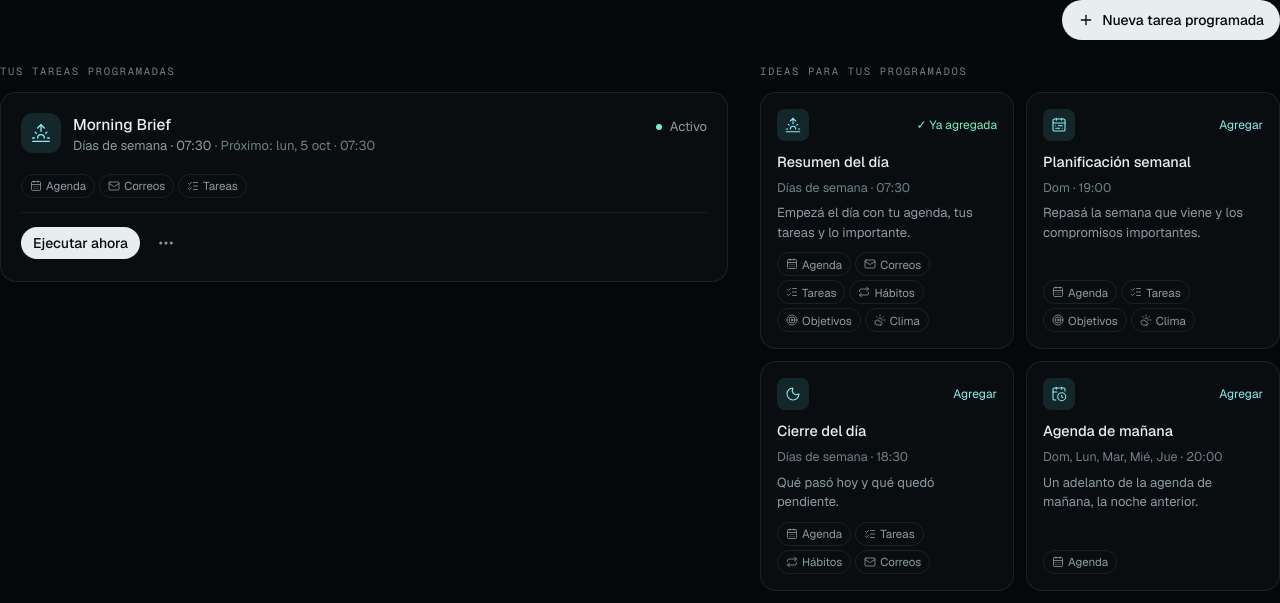
Scheduled hub (ADR-037) › the existing Morning Brief is recognised: its idea says Already added and opens it
The image size is (1280, 603).
Expected: the text "✓ Ya agregada" is shown, [916,116,997,134]
Step 1. Click the button "Resumen del día" → (887, 221), box [760,92,1014,349]
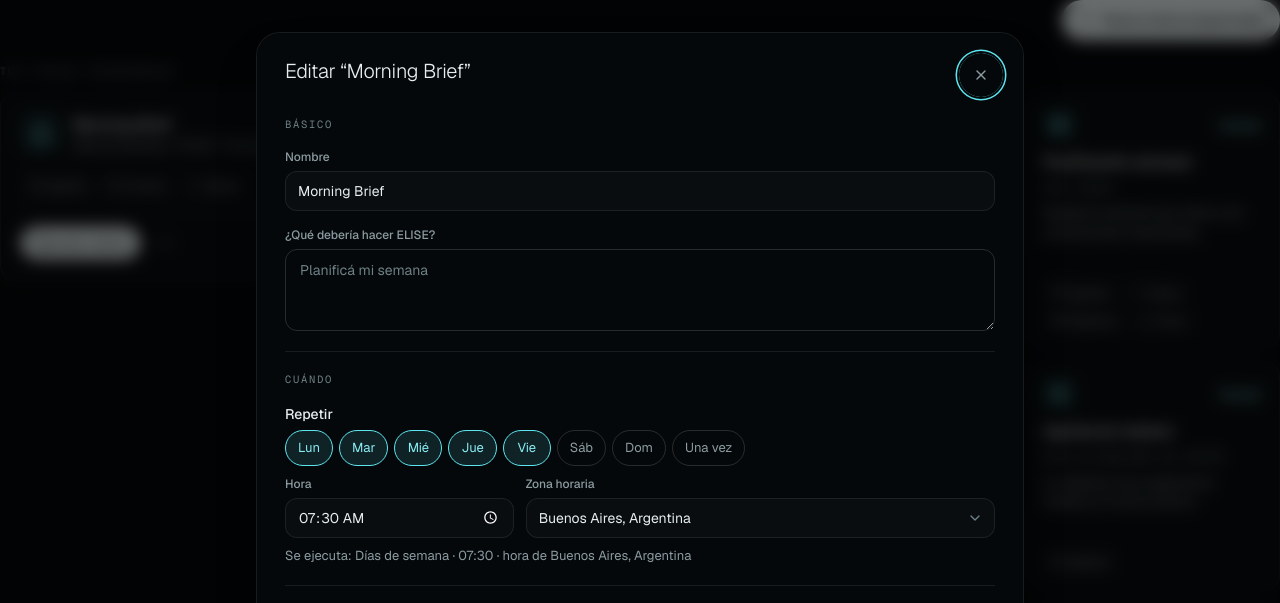
Expected: the heading "Editar “Morning Brief”" is shown, [285,57,470,85]
